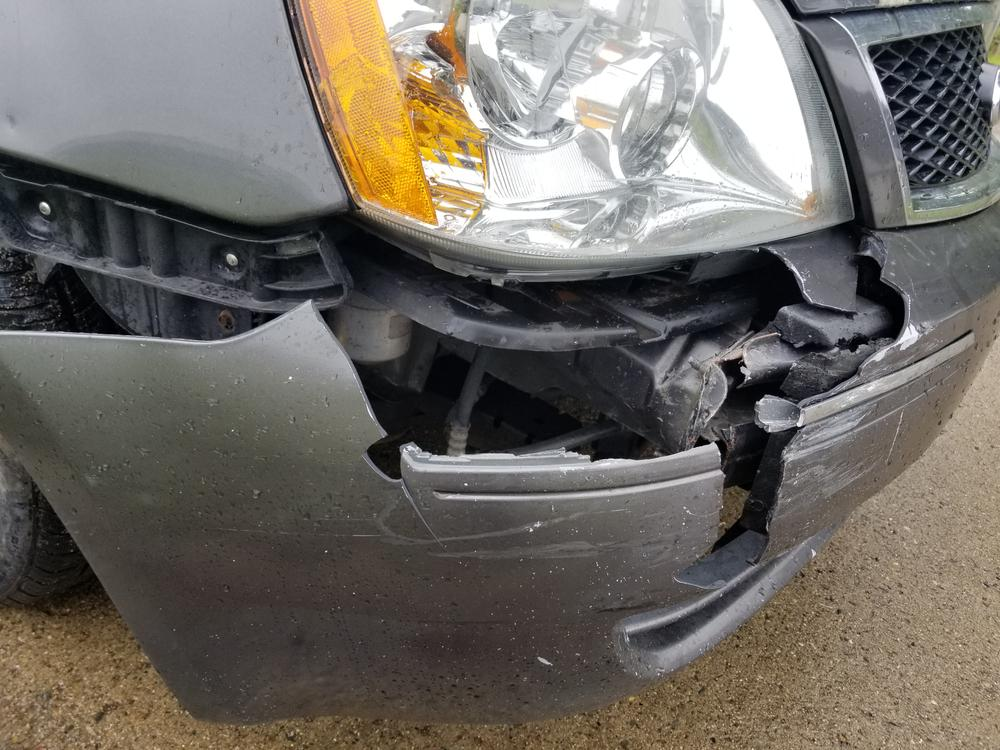crack: (671, 429, 803, 592)
